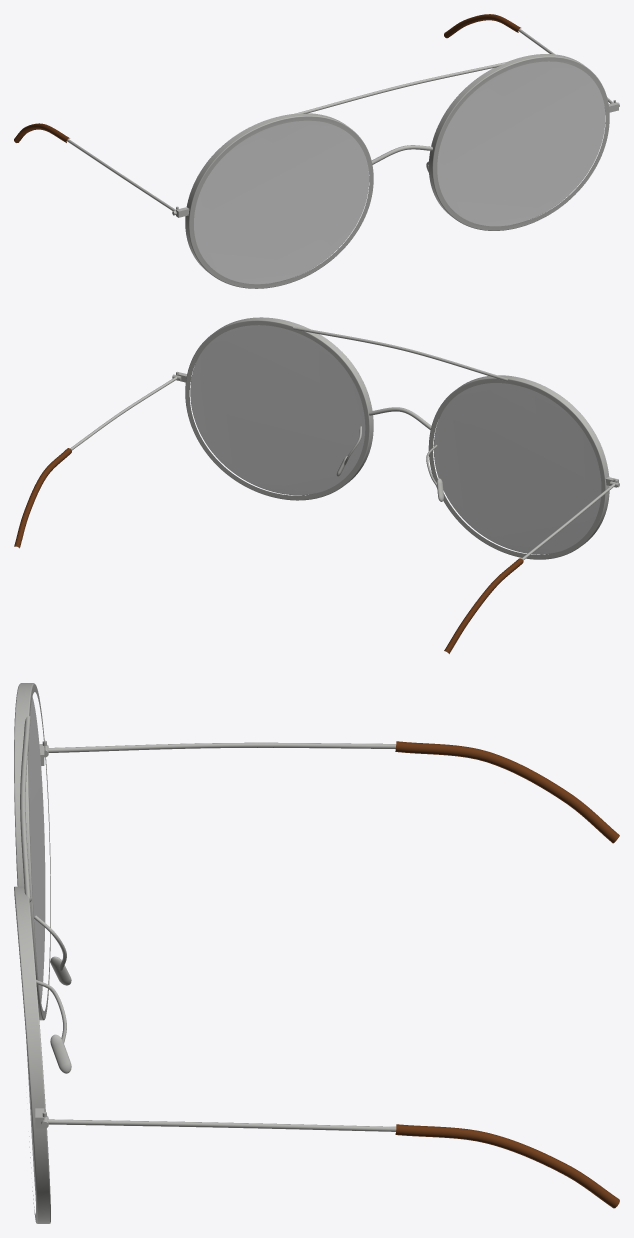
File: orbit_t4.glb
3 renders of one model, top to bottom at view 1: azimuth 30°, elevation 25°; view 2: azimuth 150°, elevation 25°; view 3: azimuth 270°, elevation 25°, orthographic. The views are drawn at different scales.
Visible parts, largest first — view 1: ORBIT_T4; view 2: ORBIT_T4; view 3: ORBIT_T4.
Boxes of the visible parts, x1,y1,x2,y2 form: ORBIT_T4: (14, 14, 619, 288); ORBIT_T4: (14, 317, 619, 653); ORBIT_T4: (14, 683, 619, 1223).
Size of the model in its own units: 0.9148 by 0.3339 by 0.6044.
